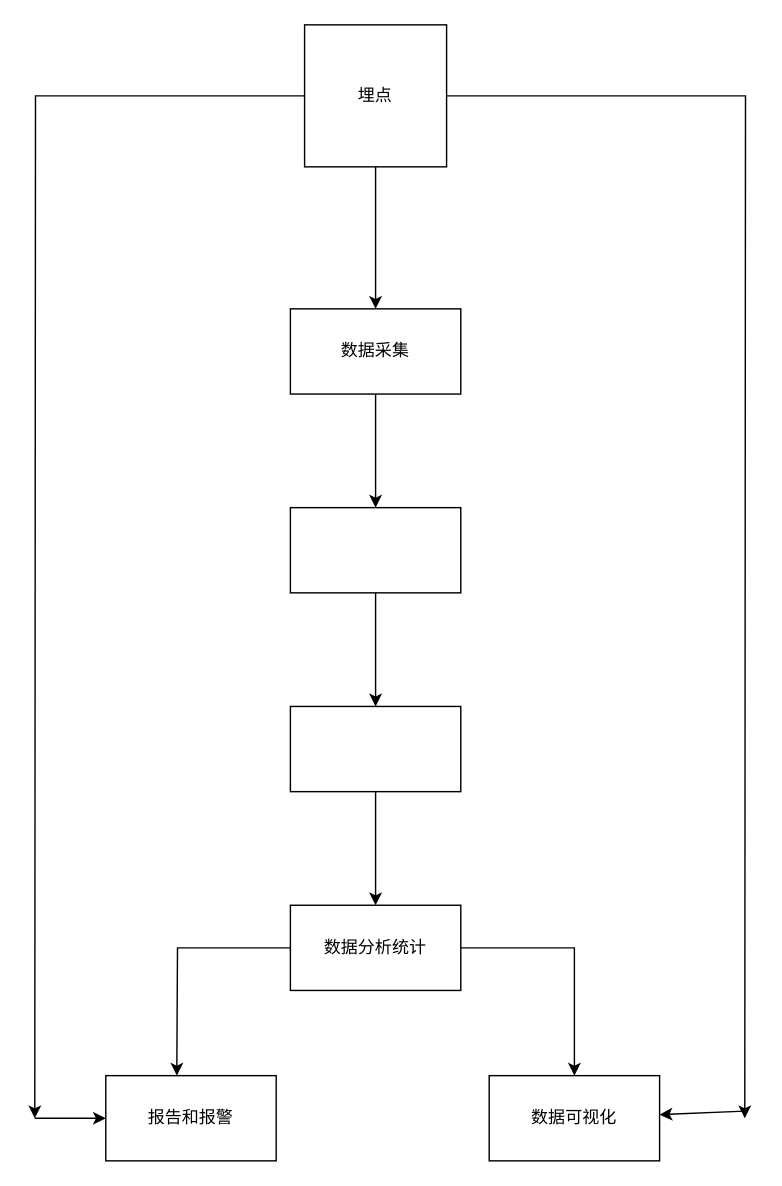
This 782x1186 diagram has some shape labels left out. The shapes that lost their labels are listed below. From the top down, each one's centre as x and y in pixels, then its label:
At pixel 375 549: "数据建模存储".
At pixel 375 748: "数据参数批量/实时".
